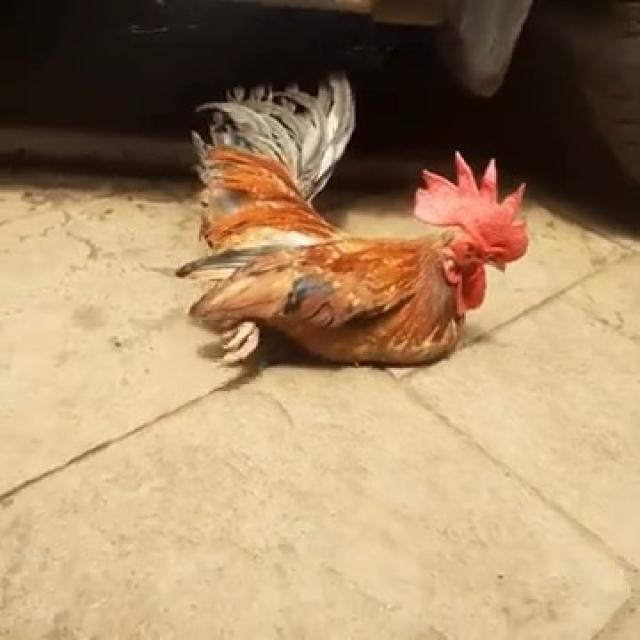sleeping chickens: (188, 84, 537, 378)
